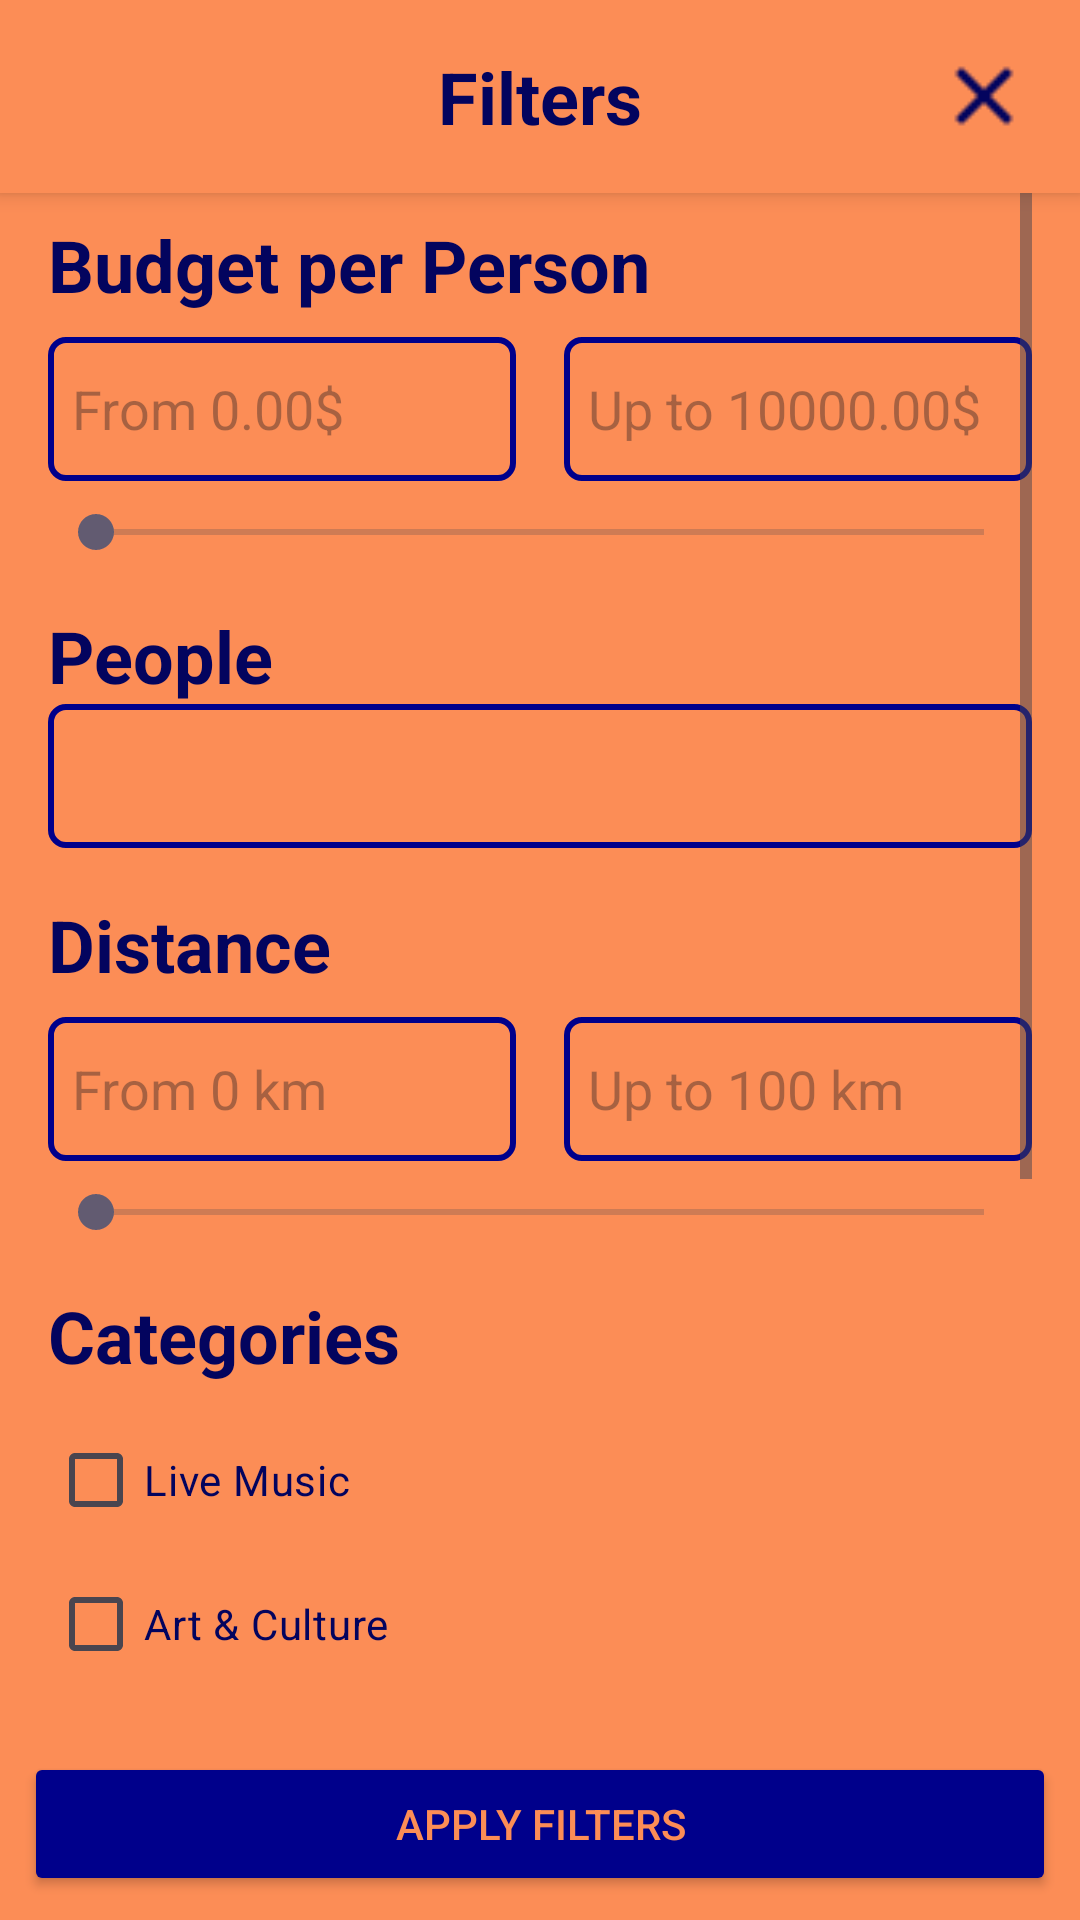

Screen size 1080px×1920px. Icon name, then its center in pixels as (x=x, y=y):
Close Filters: (x=984, y=96)
